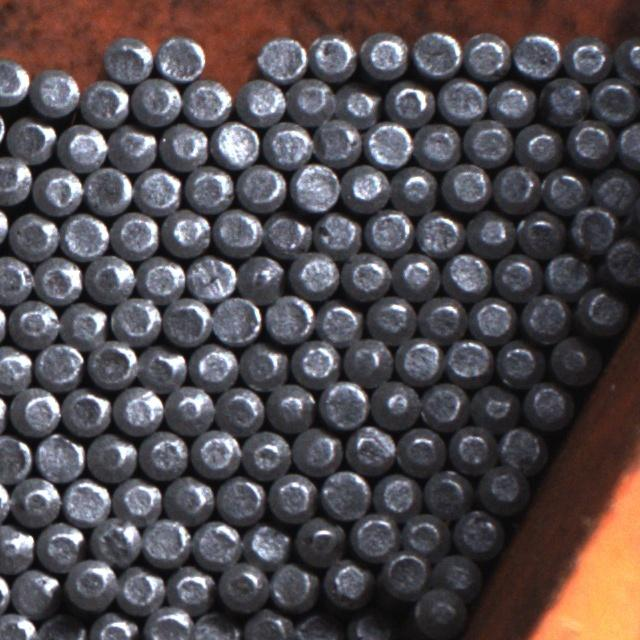tool: (410, 586, 466, 638), (62, 559, 116, 612), (89, 513, 141, 565), (294, 513, 346, 565), (10, 475, 61, 527), (547, 334, 598, 386), (576, 284, 627, 335), (217, 560, 269, 610), (9, 566, 59, 617), (210, 294, 260, 344), (35, 520, 85, 570), (60, 386, 110, 436), (490, 162, 540, 212), (130, 75, 180, 125), (136, 342, 186, 392), (32, 165, 82, 215), (86, 338, 136, 388), (162, 208, 212, 258), (236, 341, 286, 391), (319, 469, 369, 519), (318, 379, 368, 429), (156, 32, 206, 82), (257, 32, 307, 82), (85, 433, 136, 482), (515, 209, 566, 258), (102, 33, 151, 84), (110, 294, 160, 343), (264, 293, 314, 342), (313, 114, 362, 164), (267, 471, 316, 521), (158, 121, 208, 170), (107, 123, 156, 173), (163, 473, 213, 522), (5, 115, 55, 164), (34, 339, 83, 389), (269, 562, 319, 611), (83, 253, 133, 302), (8, 298, 57, 348), (192, 518, 241, 568), (345, 423, 395, 472), (236, 162, 286, 211), (396, 425, 445, 475), (370, 378, 419, 428), (116, 565, 166, 614), (32, 66, 81, 116), (452, 507, 502, 556), (207, 36, 255, 87), (262, 119, 311, 168), (211, 119, 260, 168), (520, 292, 569, 341), (83, 165, 132, 214), (192, 428, 241, 477), (242, 428, 291, 477), (165, 385, 214, 434), (8, 211, 57, 260), (114, 384, 163, 433), (110, 209, 159, 258), (351, 511, 400, 560), (10, 387, 59, 436), (512, 31, 561, 80), (522, 381, 571, 430), (291, 426, 341, 474), (216, 474, 266, 522), (286, 75, 336, 123), (543, 249, 593, 297), (141, 516, 189, 566), (325, 559, 373, 609), (568, 205, 618, 253), (342, 335, 392, 383), (476, 462, 524, 512), (59, 299, 108, 347), (162, 296, 210, 345), (438, 75, 486, 124), (35, 432, 83, 481), (184, 165, 232, 214), (291, 162, 339, 211), (290, 250, 339, 298), (33, 254, 81, 303), (189, 342, 237, 391), (266, 383, 315, 431), (139, 430, 188, 478), (216, 385, 264, 434), (341, 162, 389, 211), (420, 379, 469, 427), (183, 76, 232, 124), (462, 31, 510, 80), (412, 29, 461, 77), (379, 550, 428, 598), (464, 117, 512, 165), (134, 166, 182, 214), (366, 292, 414, 340), (114, 474, 162, 522), (62, 476, 110, 524), (236, 252, 284, 300), (186, 252, 234, 300), (213, 206, 261, 254), (465, 209, 513, 257), (60, 211, 108, 259), (422, 467, 470, 515), (262, 210, 310, 258), (81, 78, 129, 126), (309, 31, 357, 79), (58, 124, 106, 172), (590, 166, 638, 214), (290, 337, 339, 384), (392, 251, 441, 298), (442, 161, 489, 210), (235, 76, 282, 125), (342, 251, 389, 299), (566, 119, 613, 167), (540, 167, 588, 214), (244, 519, 292, 566), (395, 336, 442, 384), (589, 77, 637, 124), (539, 76, 587, 123), (385, 79, 433, 126), (487, 78, 535, 125), (167, 565, 215, 612), (564, 32, 611, 80), (361, 30, 408, 78), (497, 424, 545, 471), (414, 120, 461, 167), (418, 293, 465, 340), (137, 254, 184, 301), (444, 336, 491, 383), (468, 295, 516, 341), (517, 122, 565, 168), (366, 119, 412, 167), (450, 422, 496, 470), (492, 252, 540, 298), (392, 162, 438, 210), (316, 299, 363, 345), (365, 207, 412, 253), (373, 471, 420, 517), (314, 209, 361, 255), (415, 210, 462, 256), (401, 510, 447, 557), (494, 338, 540, 385), (444, 250, 491, 295), (472, 381, 519, 426), (336, 80, 381, 126), (432, 550, 480, 593), (601, 236, 640, 288), (0, 522, 33, 573), (143, 606, 192, 640), (242, 608, 294, 640), (0, 433, 33, 482), (0, 344, 32, 393), (0, 54, 30, 106), (0, 154, 31, 204), (346, 608, 394, 640), (0, 254, 30, 303), (39, 611, 89, 640), (295, 611, 343, 640), (90, 611, 138, 640), (192, 612, 240, 640), (615, 120, 640, 168), (617, 34, 640, 82), (0, 612, 35, 640)
